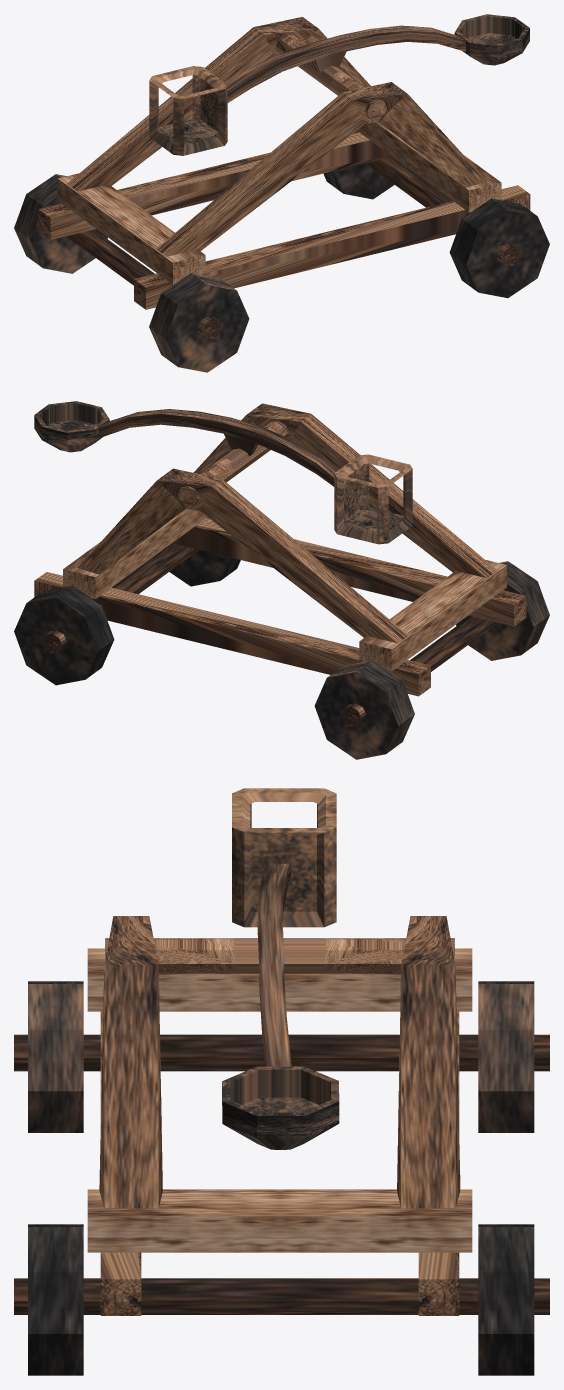
The picture shows the model from 3 angles, top to bottom: view 1: azimuth 30°, elevation 25°; view 2: azimuth 150°, elevation 25°; view 3: azimuth 270°, elevation 25°; orthographic projection. The views are drawn at different scales.
Parts seen in each view (by area): view 1: Cataputa_0; view 2: Cataputa_0; view 3: Cataputa_0.
Part boxes in pixels (x1,y1,x2,y2): Cataputa_0: (14,14,549,372); Cataputa_0: (14,401,549,759); Cataputa_0: (14,788,549,1375).
Bounding box in the file's own units: 10.34 × 5.27 × 6.65.
1 material, 1 textured.
